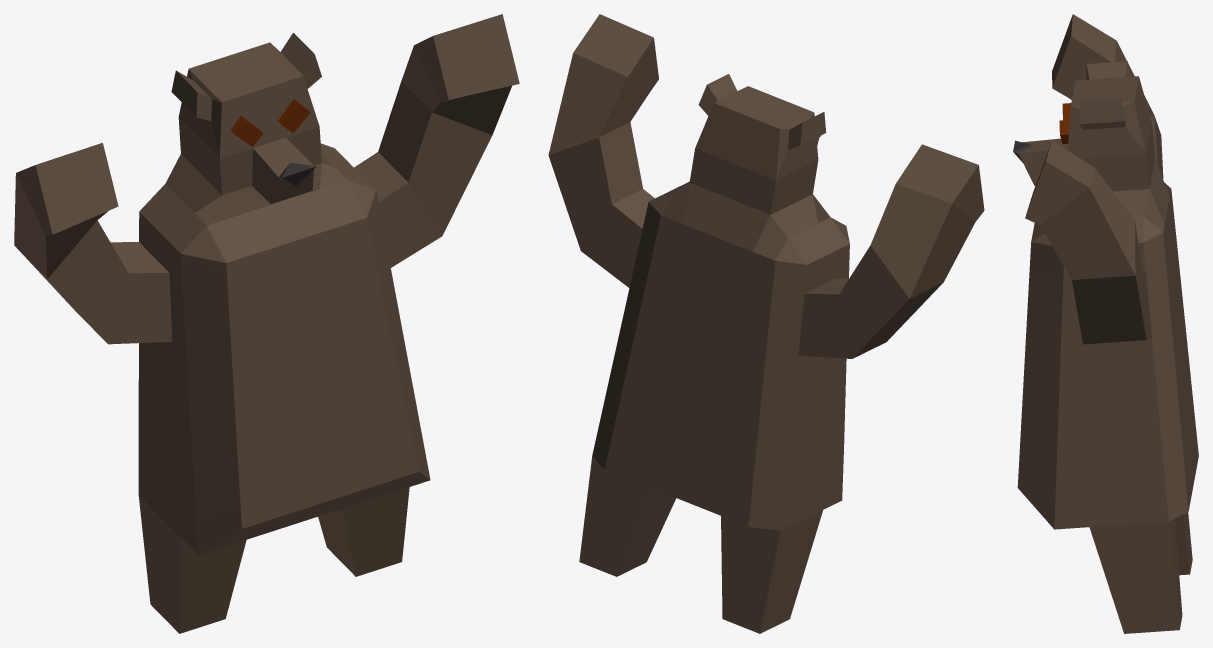
The model's file is Bear.fbx.
3 views of the same model, side by side, from view 1: azimuth 30°, elevation 25°; view 2: azimuth 150°, elevation 25°; view 3: azimuth 270°, elevation 25° (orthographic). The views are drawn at different scales.
Visible parts, largest first — view 1: pCube18; view 2: pCube18; view 3: pCube18.
Boxes of the visible parts, x1,y1,x2,y2 form: pCube18: (14, 14, 519, 633); pCube18: (548, 14, 984, 633); pCube18: (1013, 14, 1198, 633).
Size of the model in its own units: 800 by 986 by 320.
